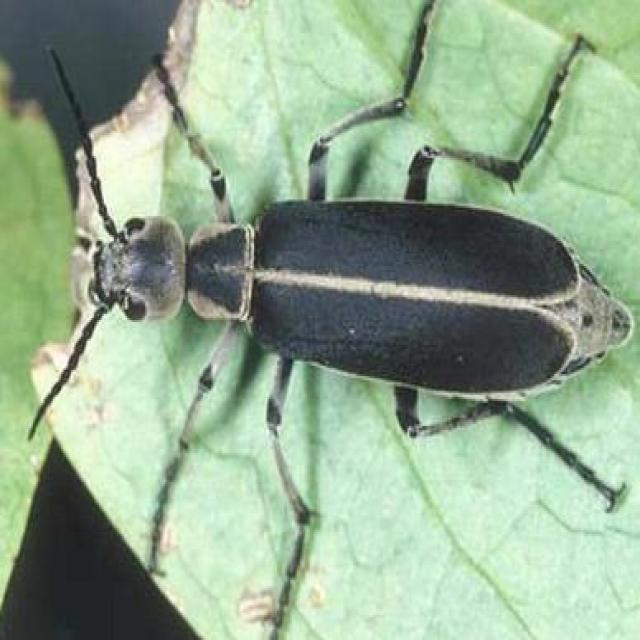BlisterBeetle-Adult-: (28, 45, 638, 542)
